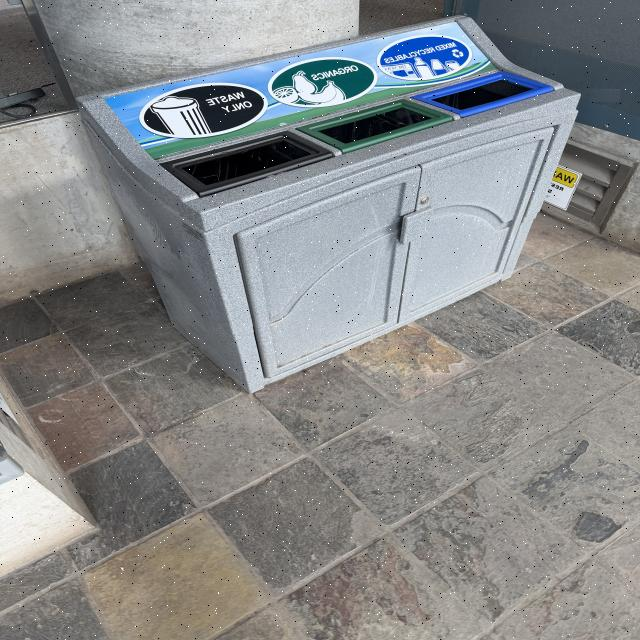Dustbin: (76, 13, 582, 398)
